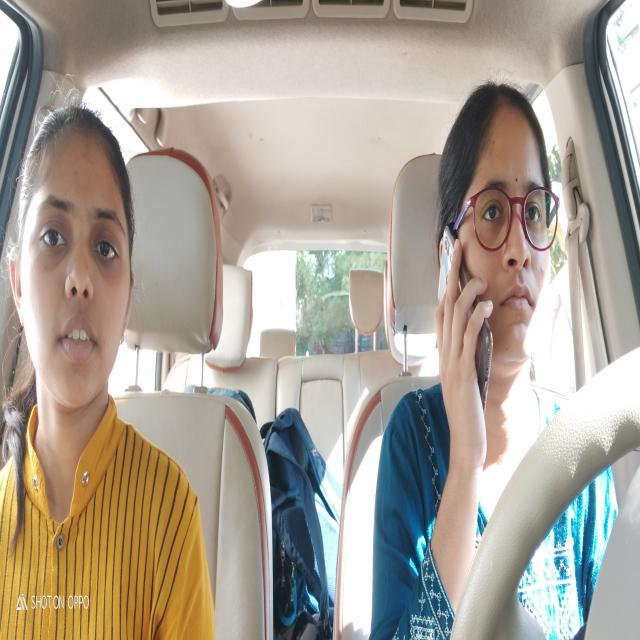mobile: (436, 222, 493, 406)
person: (19, 124, 140, 396), (455, 112, 551, 368)
